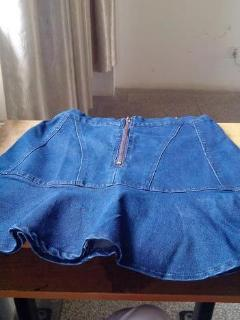skirt: (0, 108, 239, 282)
